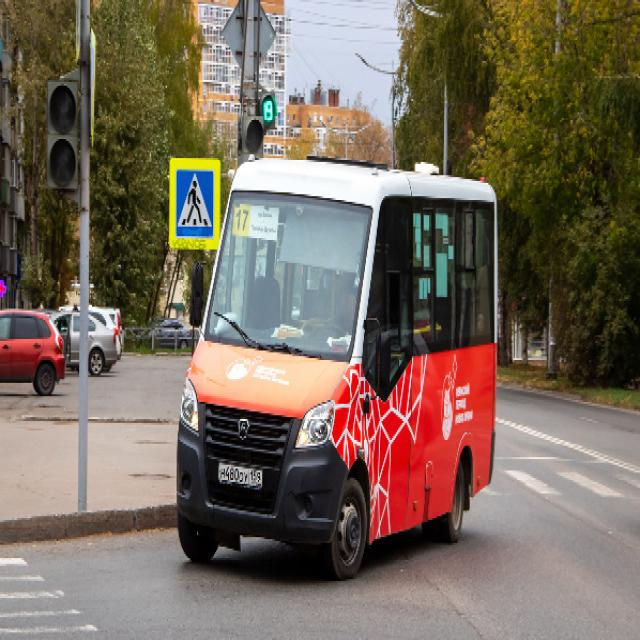non emergency car: (178, 156, 499, 584), (1, 311, 67, 397), (49, 312, 122, 378), (143, 320, 192, 354)
